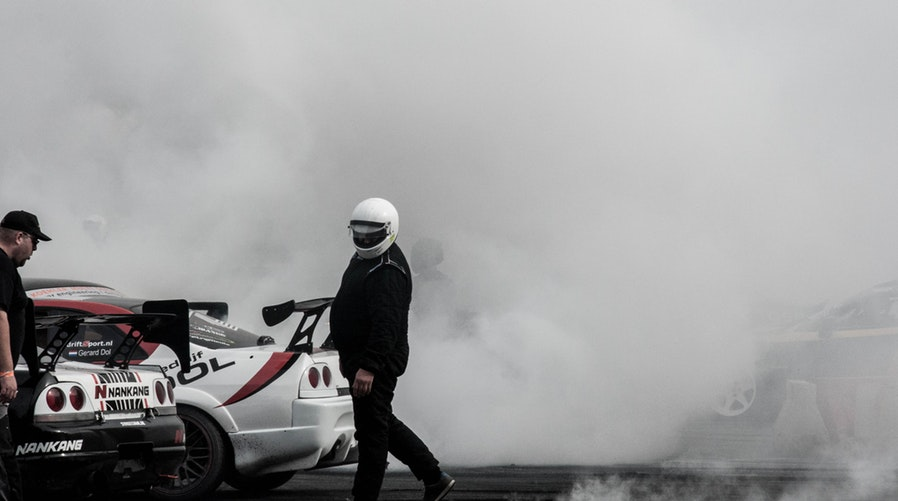helmet: (338, 198, 411, 251)
